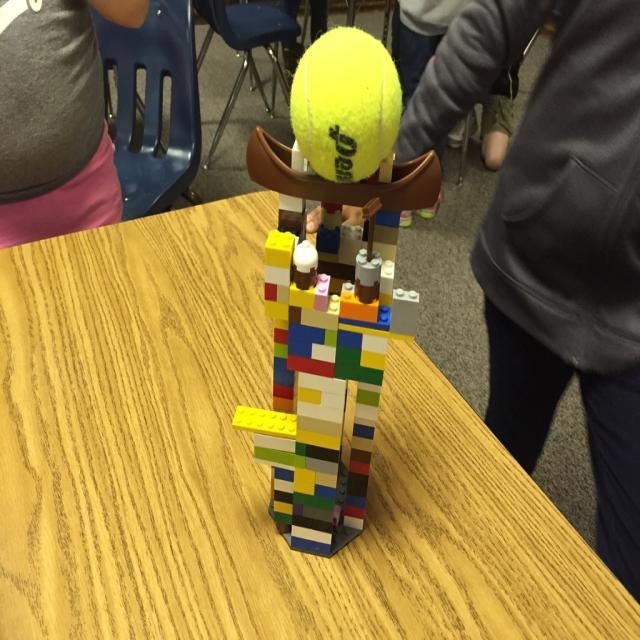Tennis ball: (288, 27, 404, 186)
